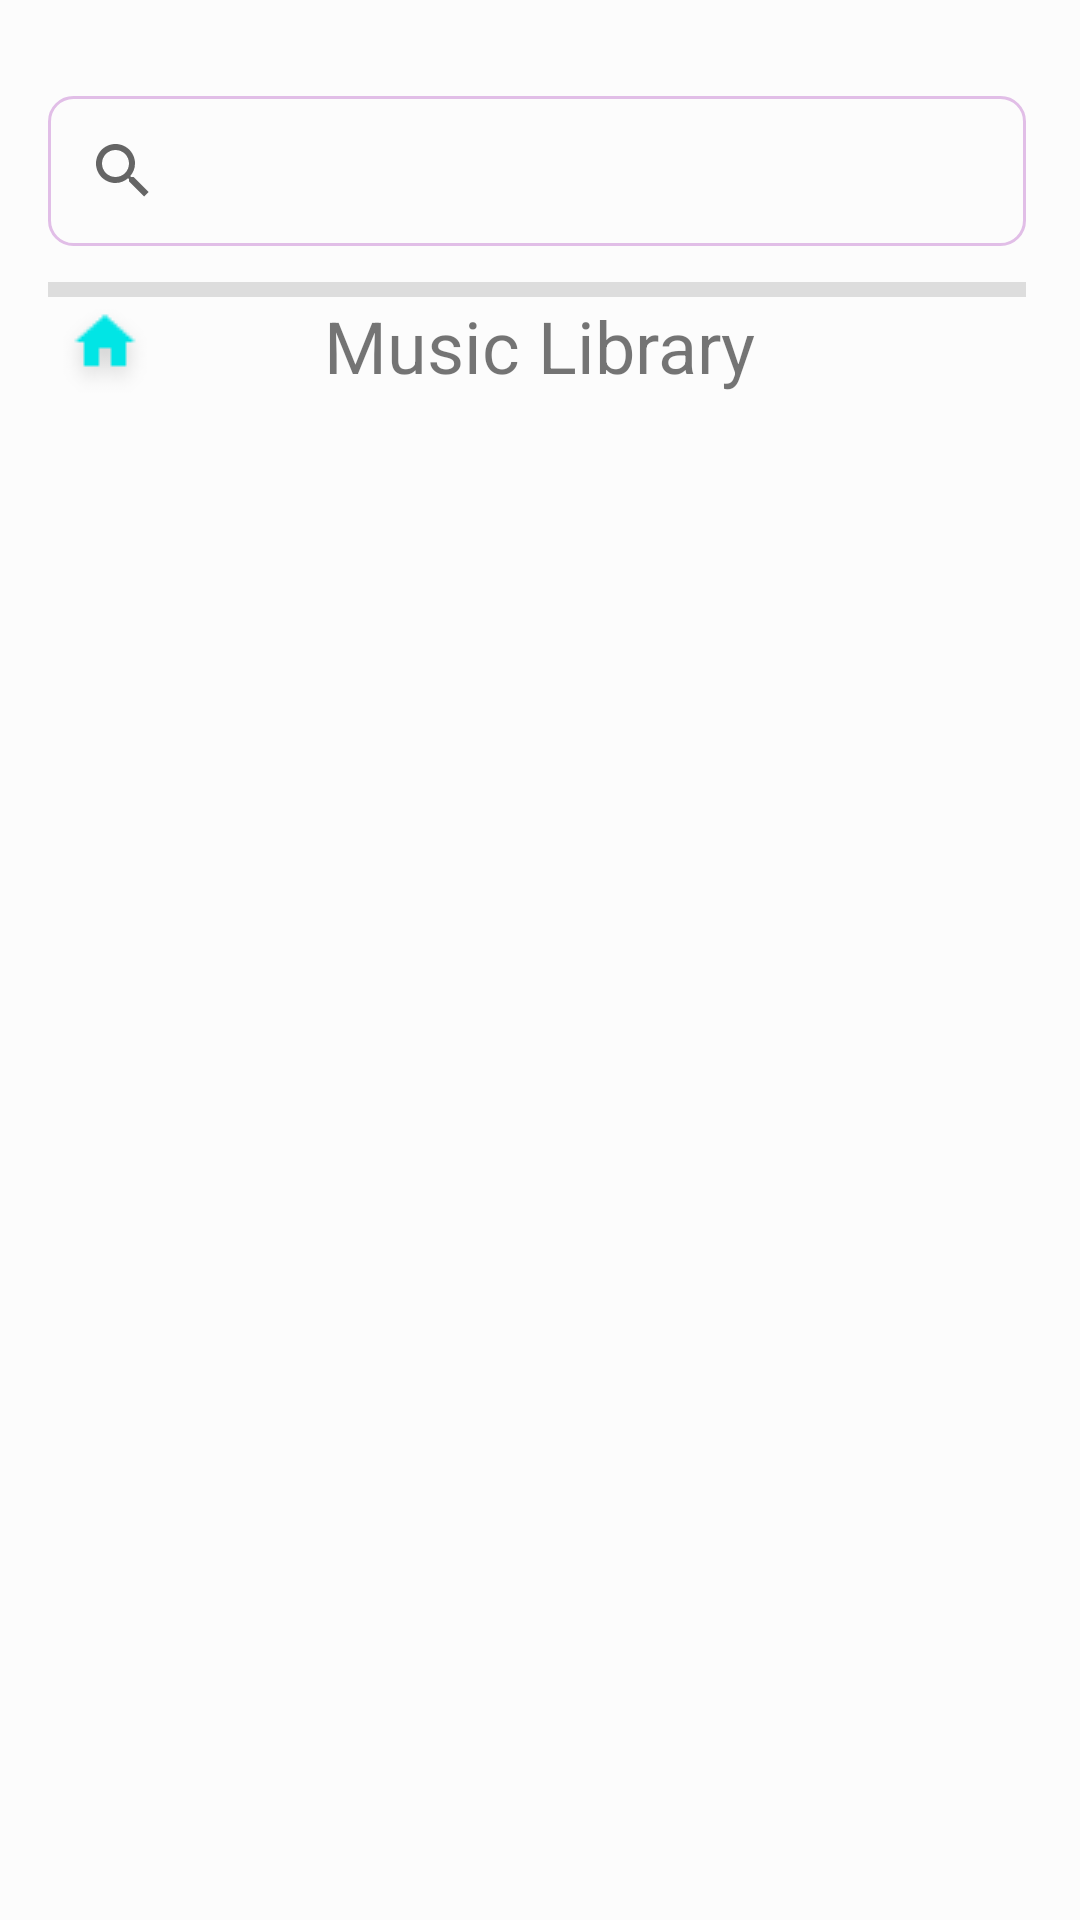

Icons on this 1080px x 1920px Android screen, each with the point to tap as [x,y]:
home: [105,340]
